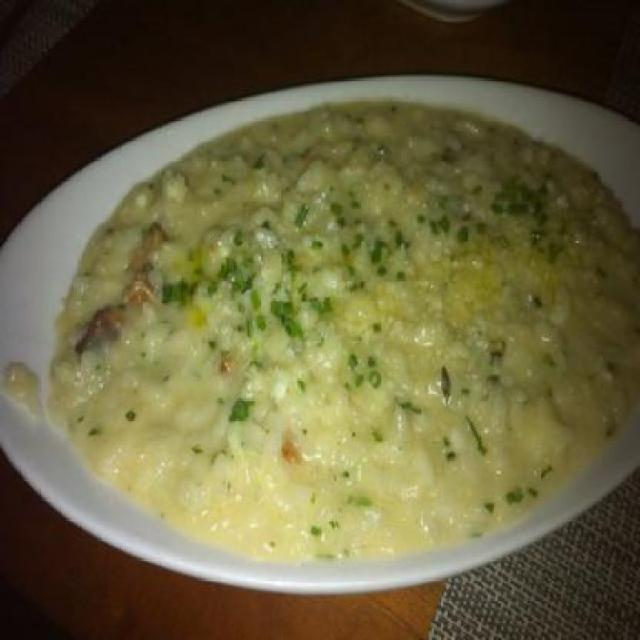Risotto: (78, 120, 622, 566)
